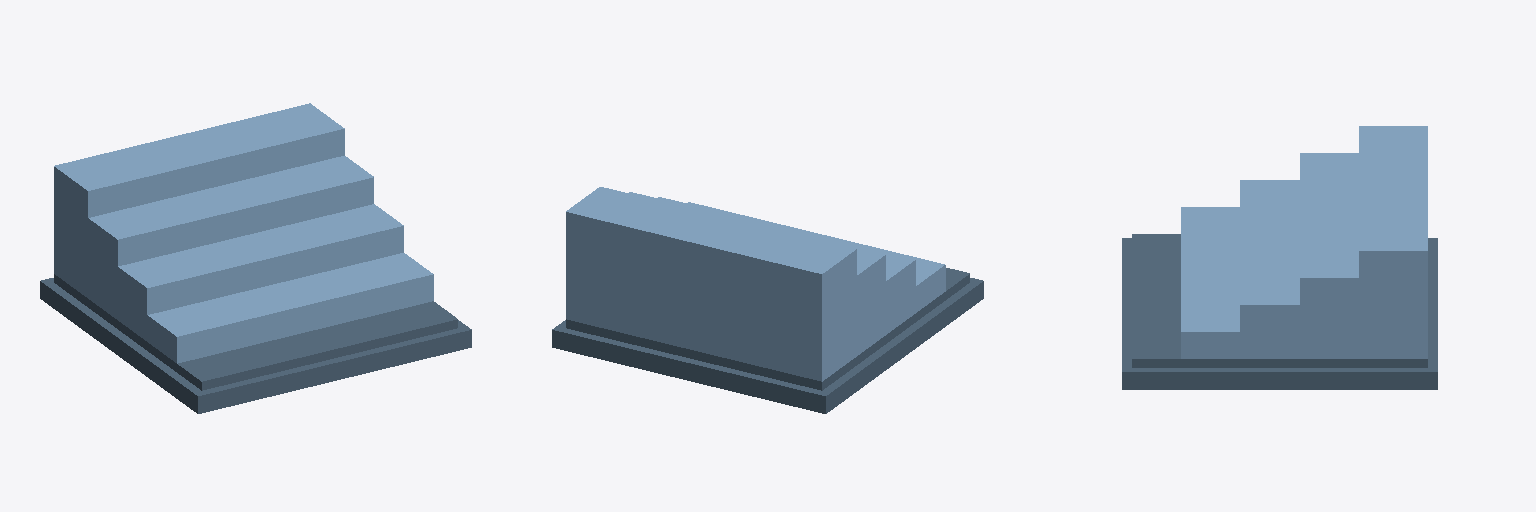
3 renders of one model, left to right at view 1: azimuth 30°, elevation 25°; view 2: azimuth 150°, elevation 25°; view 3: azimuth 270°, elevation 25°, orthographic.
Parts seen in each view (by area): view 1: 003_up_01; view 2: 003_up_01; view 3: 003_up_01.
Boxes of the visible parts, box(x1,y1,x2,y2) form: 003_up_01: box(40, 103, 471, 413); 003_up_01: box(552, 187, 983, 413); 003_up_01: box(1122, 126, 1437, 389).
Size of the model in its own units: 32 by 15 by 32.
Materials: 1 (1 with a texture image).